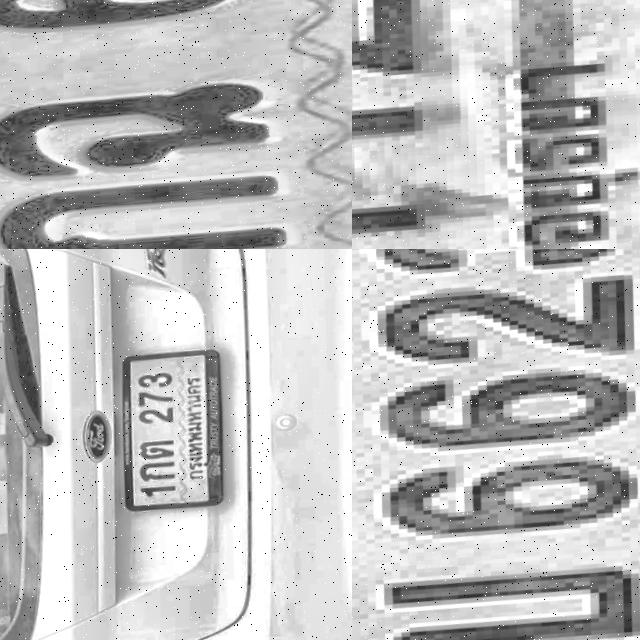license-plate: (352, 249, 640, 640), (0, 0, 352, 249), (352, 0, 640, 249), (109, 341, 242, 514)
